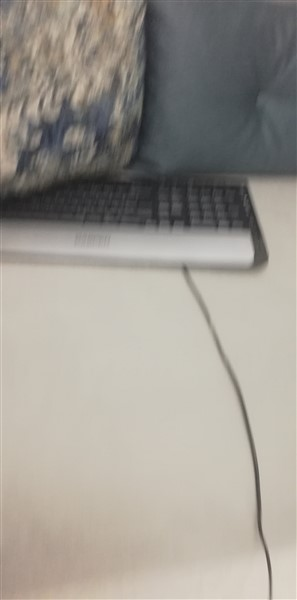klavye: (1, 171, 274, 269)
